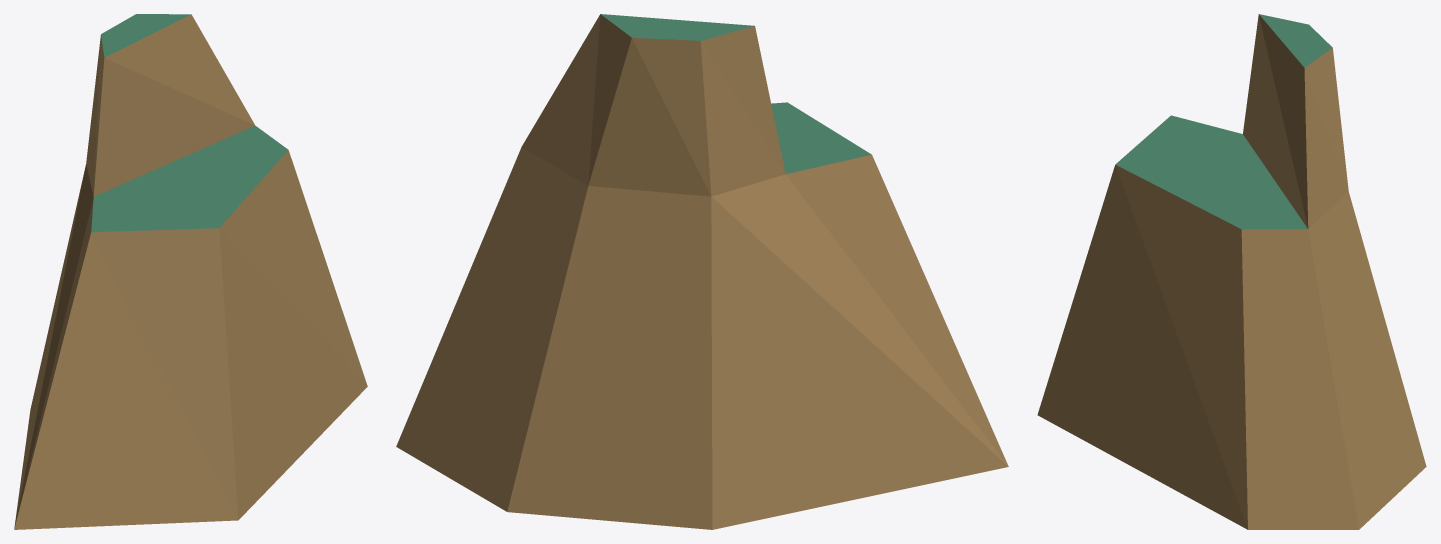
File: Rock_Small_Mesa_Eroded_Moss_Grass_03.FBX
3 views of the same model, side by side, from view 1: azimuth 30°, elevation 25°; view 2: azimuth 150°, elevation 25°; view 3: azimuth 270°, elevation 25° (orthographic). The views are drawn at different scales.
Parts seen in each view (by area): view 1: Rock_Small_Mesa_Eroded_Moss_Grass_03; view 2: Rock_Small_Mesa_Eroded_Moss_Grass_03; view 3: Rock_Small_Mesa_Eroded_Moss_Grass_03.
Part boxes in pixels (x1,y1,x2,y2): Rock_Small_Mesa_Eroded_Moss_Grass_03: (14, 14, 367, 529); Rock_Small_Mesa_Eroded_Moss_Grass_03: (396, 14, 1008, 529); Rock_Small_Mesa_Eroded_Moss_Grass_03: (1037, 14, 1426, 529).
Size of the model in its own units: 2336 by 2100 by 1902.
